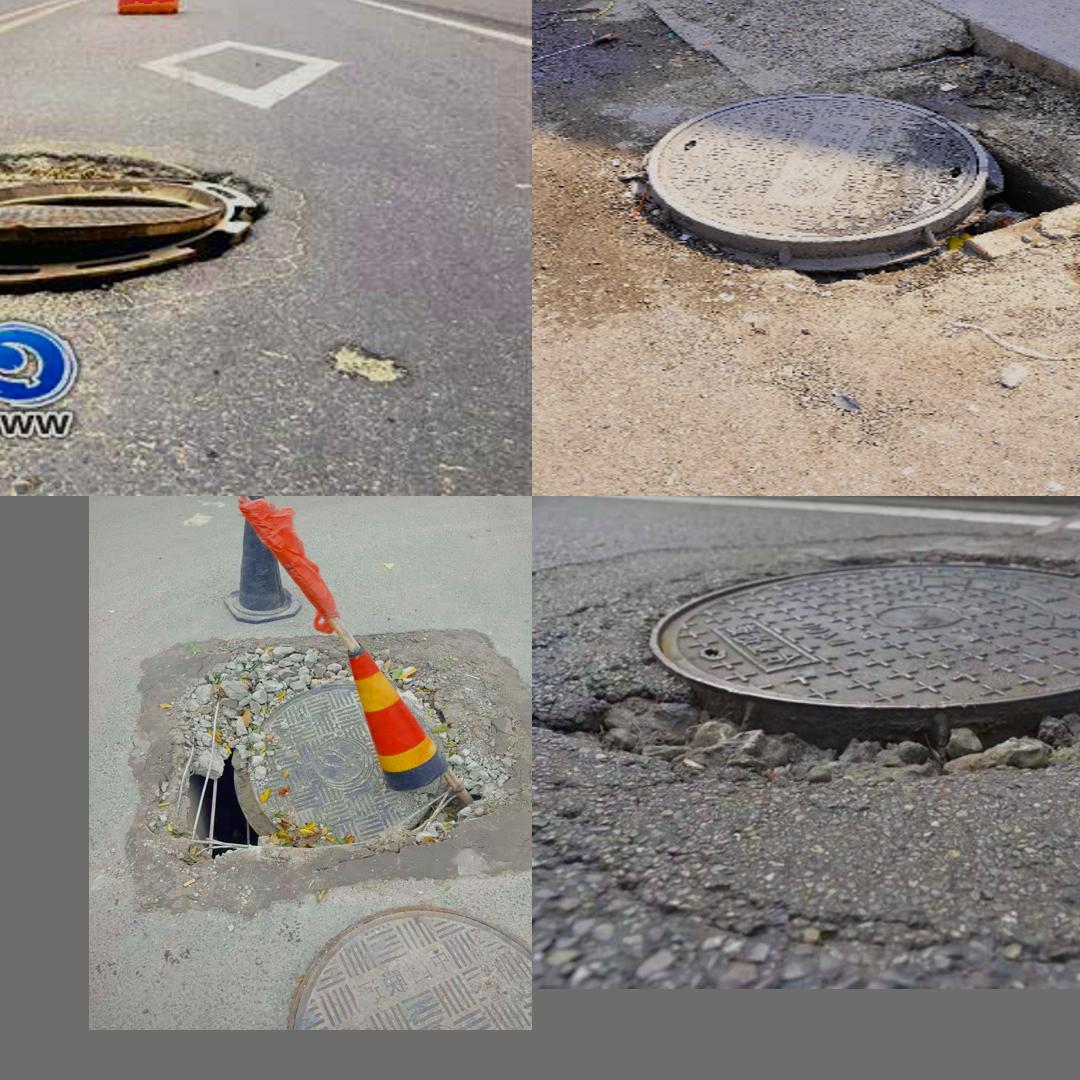circle: (543, 533, 1080, 833), (626, 81, 1055, 278), (0, 135, 363, 327), (182, 679, 465, 849)
